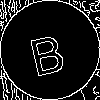B: (25, 25, 68, 77)
